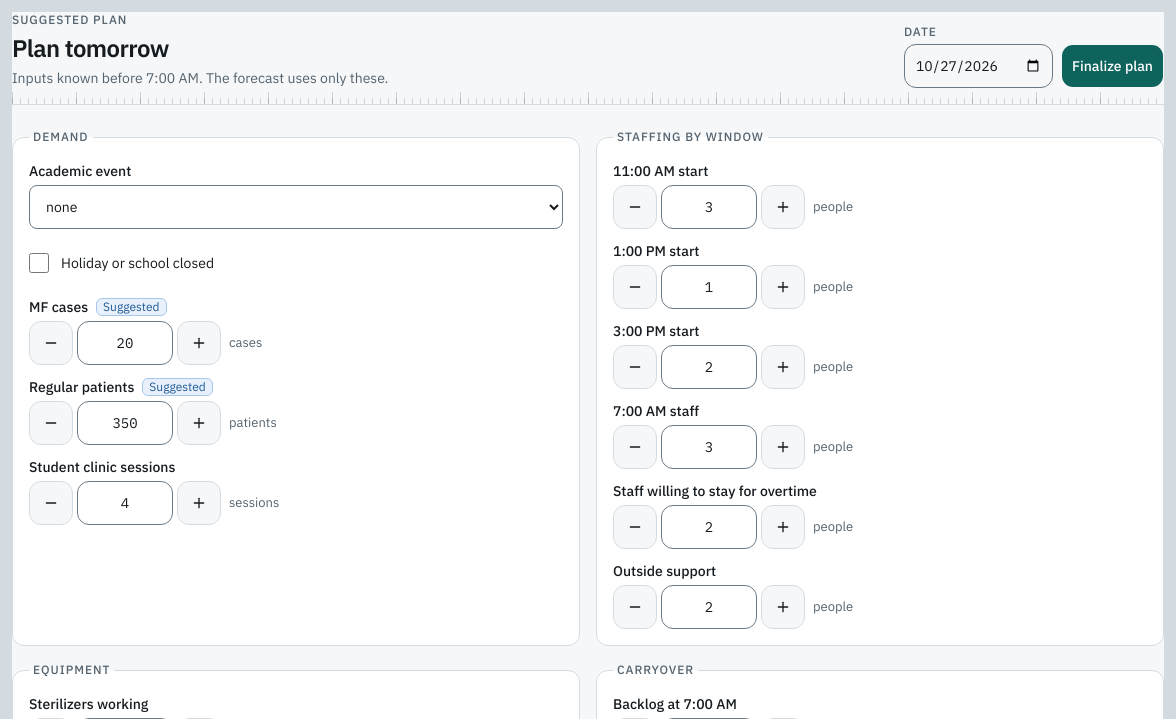
Test: PlanForm › shows field-level errors from the OpenAPI ranges and does not save invalid data
Replace the text in the field labelled "Regular patients" with "900": (125, 423) 77,401 -> 173,445
Wait 10100 ms
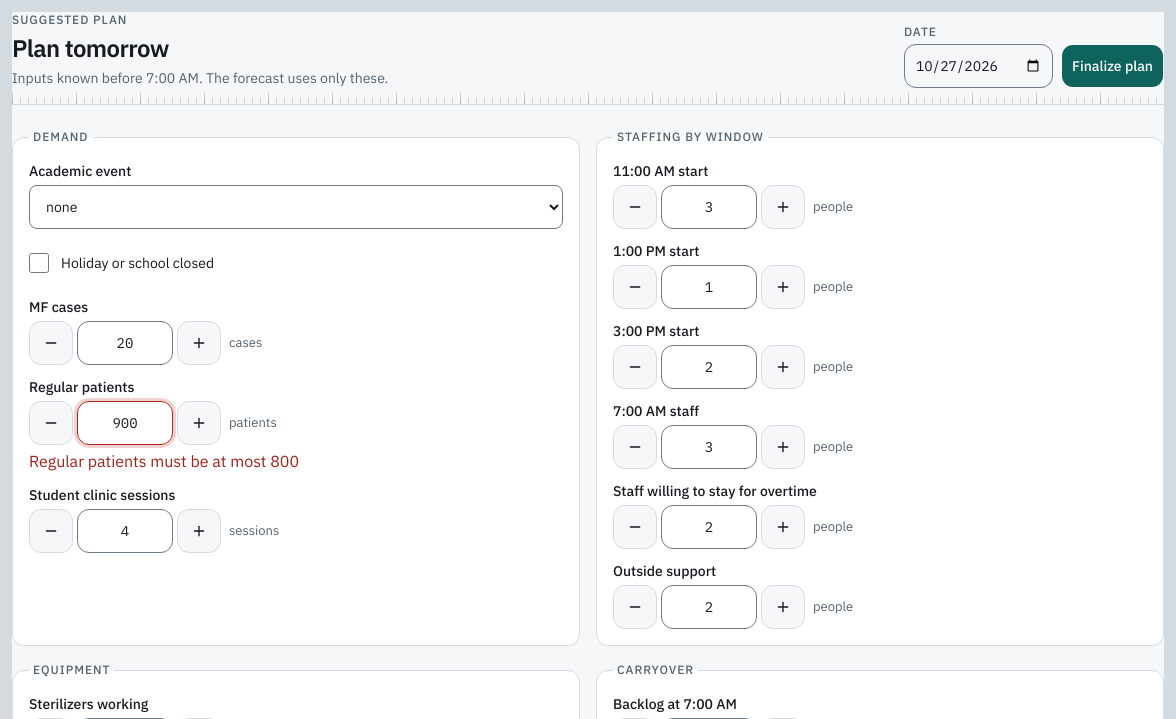
Expected: the text "Regular patients must be at most 800" is shown, 29,451 -> 299,471
